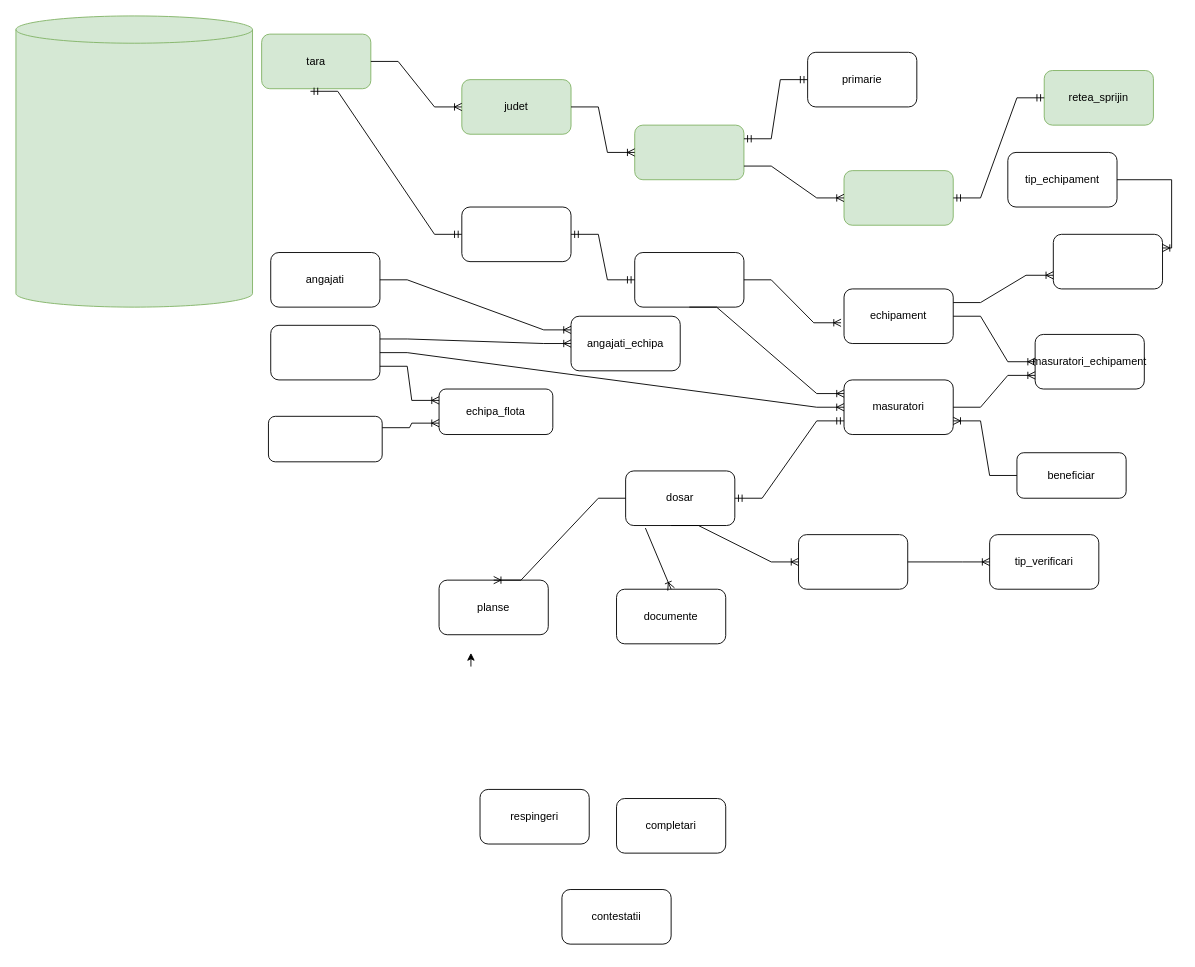
This 1195x967 diagram has some shape labels left out. Each missing label, with the box of its shape:
ANAF: (461, 206, 571, 262)
companie: (634, 252, 744, 307)
echipa: (270, 324, 380, 380)
echipament_tip_echipament: (1052, 233, 1163, 289)
flota: (268, 415, 382, 462)
Lucrari Cadastru GIS: (15, 15, 253, 307)
sectoare_cadastrale: (843, 170, 953, 225)
UAT: (634, 124, 744, 180)
verificari: (798, 534, 908, 589)
